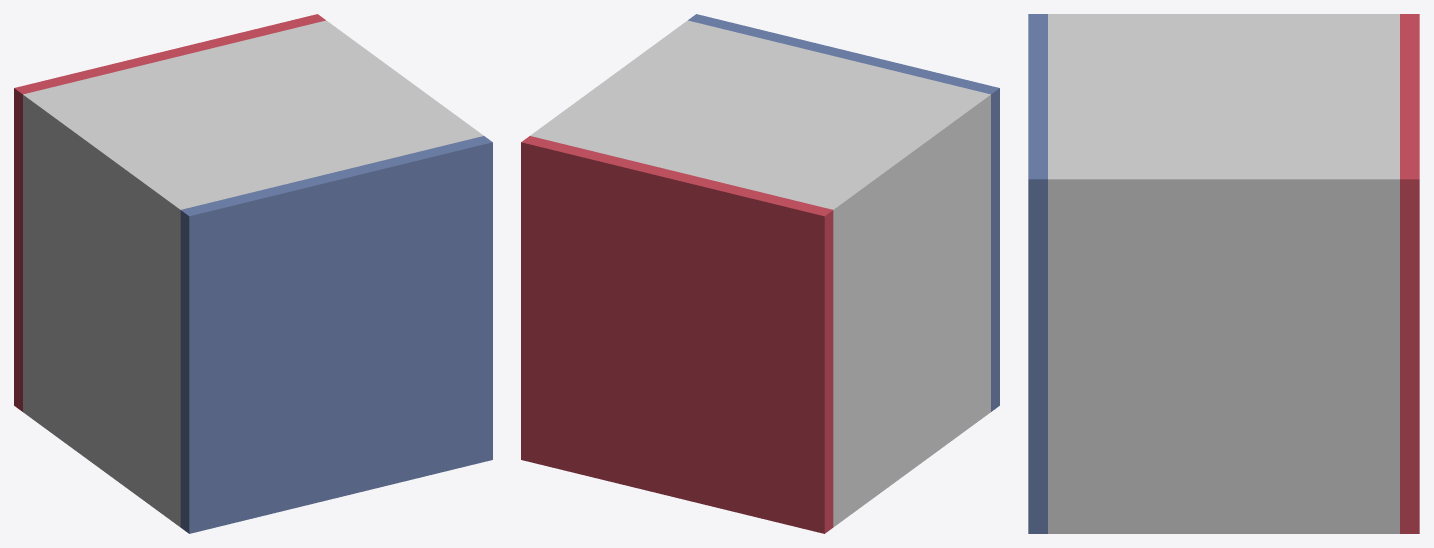
The model's file is CubeSat.glb.
The picture shows the model from 3 angles, left to right: view 1: azimuth 30°, elevation 25°; view 2: azimuth 150°, elevation 25°; view 3: azimuth 270°, elevation 25°; orthographic projection. The views are drawn at different scales.
Visible parts, largest first — view 1: Mesh_Mesh_head_geo.001_lambert2SG.001; view 2: Mesh_Mesh_head_geo.001_lambert2SG.001; view 3: Mesh_Mesh_head_geo.001_lambert2SG.001.
Boxes of the visible parts, <box> form: Mesh_Mesh_head_geo.001_lambert2SG.001: <box>14,14,492,533</box>; Mesh_Mesh_head_geo.001_lambert2SG.001: <box>521,14,999,533</box>; Mesh_Mesh_head_geo.001_lambert2SG.001: <box>1028,14,1419,533</box>.
Bounding box in the file's own units: 20 × 20 × 20.
